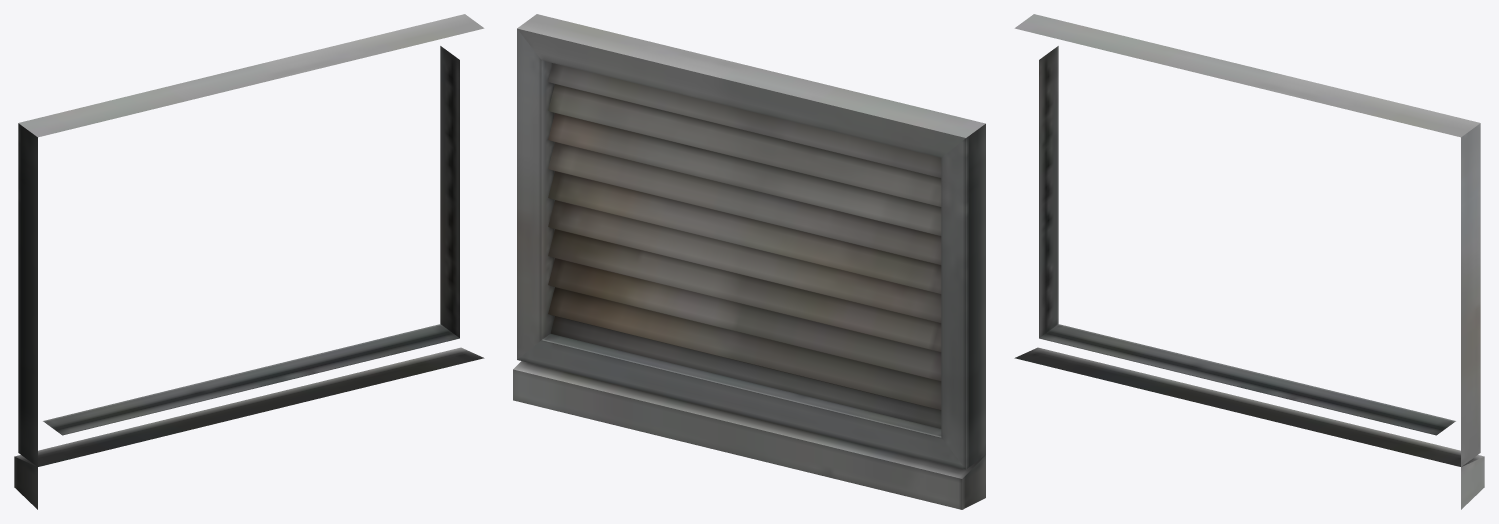
3 renders of one model, left to right at view 1: azimuth 30°, elevation 25°; view 2: azimuth 150°, elevation 25°; view 3: azimuth 330°, elevation 25°, orthographic.
Visible parts, largest first — view 1: body0_model0_lod0_mesh0; view 2: body0_model0_lod0_mesh0; view 3: body0_model0_lod0_mesh0.
Part boxes in pixels (x1,y1,x2,y2): body0_model0_lod0_mesh0: (14, 14, 484, 509); body0_model0_lod0_mesh0: (513, 14, 985, 509); body0_model0_lod0_mesh0: (1014, 14, 1484, 509).
Bounding box in the file's own units: 64.01 × 51 × 5.86.
Materials: 1 (1 with a texture image).
